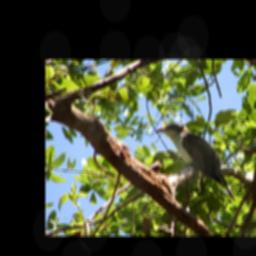Cuckoo: (153, 123, 234, 201)
